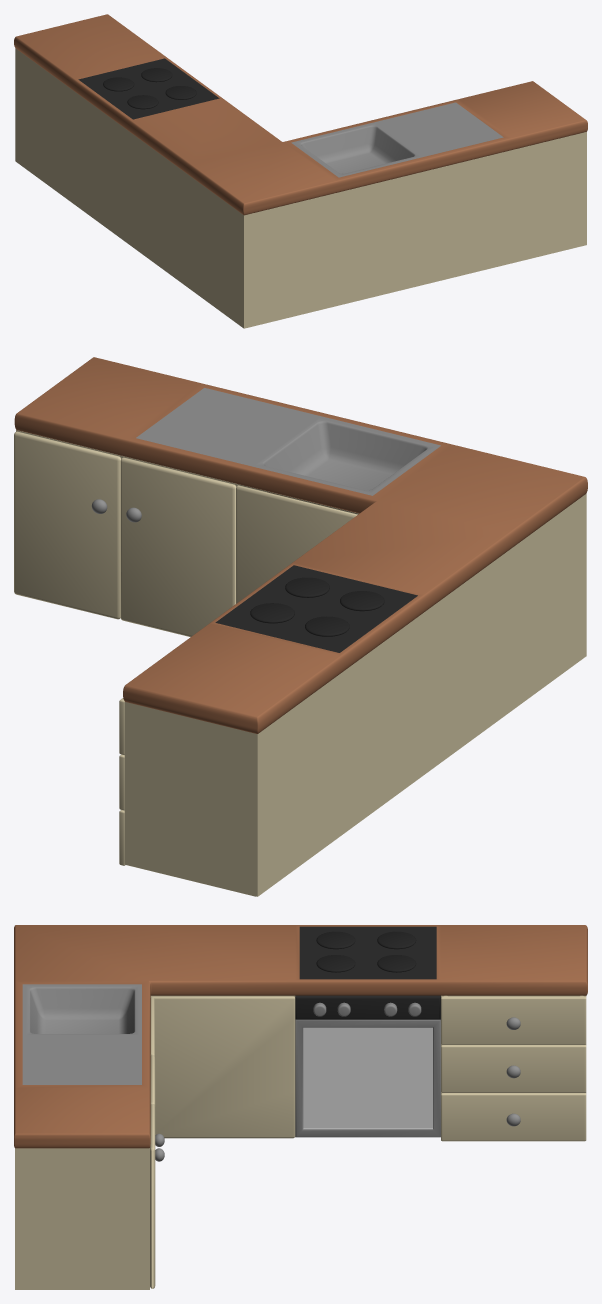
The model's file is Küchenzeile.fbx.
3 renders of one model, top to bottom at view 1: azimuth 30°, elevation 25°; view 2: azimuth 150°, elevation 25°; view 3: azimuth 270°, elevation 25°, orthographic. The views are drawn at different scales.
Visible parts, largest first — view 1: Küchenzeile, Arbeitsfläche; view 2: Arbeitsfläche, Küchenzeile, Küchenzeile_Tür_rechts, Küchenzeile_Tür_links, Küchenzeile_unterSpüle, Herdplatte_links_vorne, Herdplatte_rechts_hinten, Herdplatte_rechts_vorne, Herdplatte_links_hinten; view 3: Arbeitsfläche, Küchenzeile, Küchenzeile_nebenOfen, Ofentür, Schublade_oben, Schublade_oben.002, Schublade_oben.001, Küchenzeile_Tür_links, Herdplatte_links_hinten, Herdplatte_rechts_hinten, Herdplatte_links_vorne, Herdplatte_rechts_vorne.
Part boxes in pixels (x1,y1,x2,y2): Küchenzeile: [15, 48, 586, 328]; Arbeitsfläche: [14, 14, 587, 215]; Arbeitsfläche: [14, 357, 587, 733]; Küchenzeile: [16, 430, 586, 896]; Küchenzeile_Tür_rechts: [120, 457, 236, 636]; Küchenzeile_Tür_links: [14, 431, 120, 619]; Küchenzeile_unterSpüle: [236, 485, 357, 603]; Herdplatte_links_vorne: [285, 577, 329, 597]; Herdplatte_rechts_hinten: [305, 616, 349, 636]; Herdplatte_rechts_vorne: [250, 603, 294, 623]; Herdplatte_links_hinten: [340, 591, 384, 611]; Arbeitsfläche: [14, 925, 587, 1148]; Küchenzeile: [15, 995, 586, 1289]; Küchenzeile_nebenOfen: [150, 996, 295, 1138]; Ofentür: [295, 1019, 440, 1137]; Schublade_oben: [441, 995, 586, 1044]; Schublade_oben.002: [441, 1093, 586, 1141]; Schublade_oben.001: [441, 1045, 586, 1092]; Küchenzeile_Tür_links: [150, 1104, 164, 1288]; Herdplatte_links_hinten: [316, 931, 355, 949]; Herdplatte_rechts_hinten: [377, 931, 416, 949]; Herdplatte_links_vorne: [316, 955, 355, 972]; Herdplatte_rechts_vorne: [377, 955, 416, 972].
Bounding box in the file's own units: 1873 × 666 × 2161.
